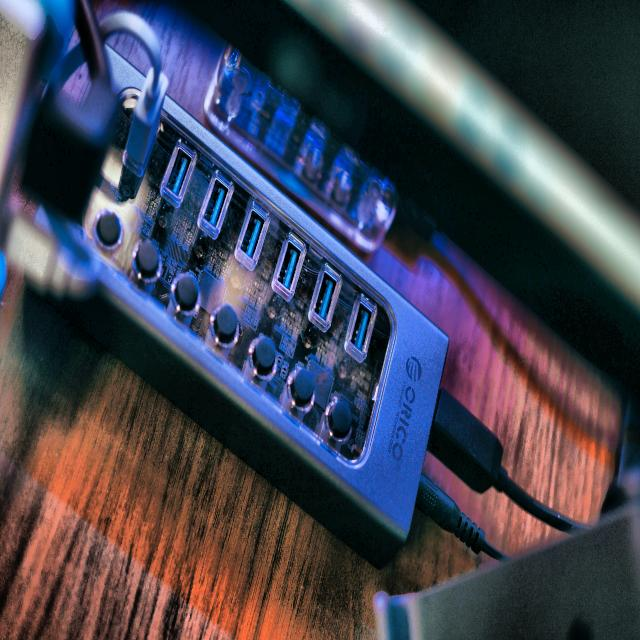HUB: (0, 0, 543, 566)
